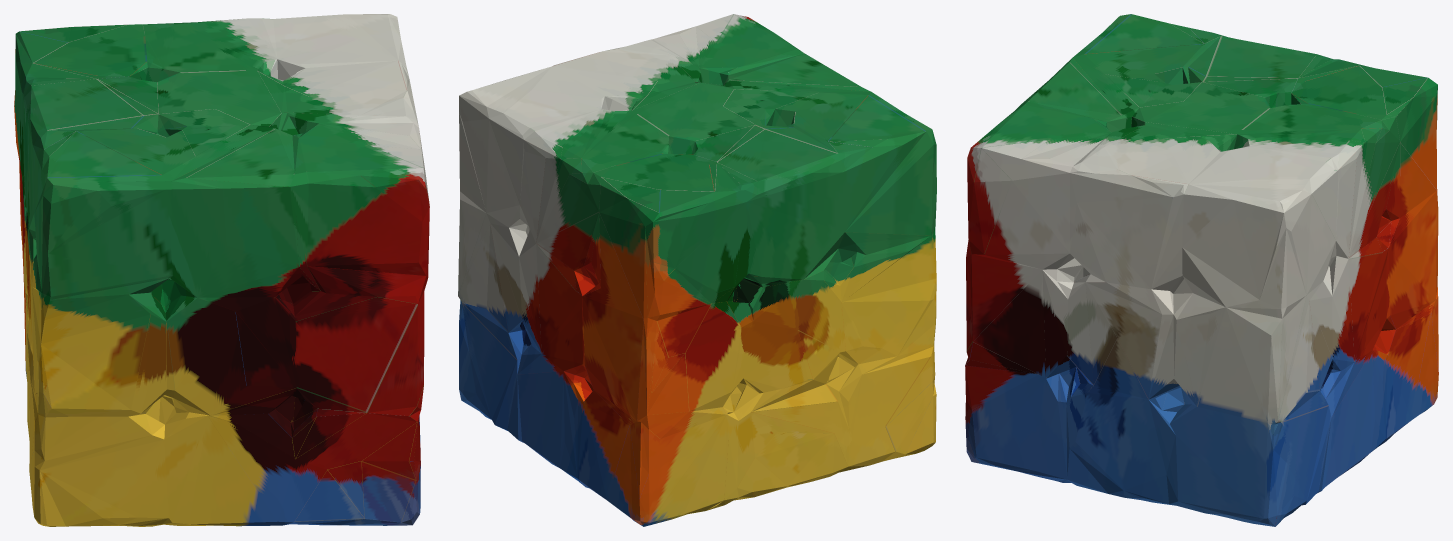
Rendered from ycb_rubiks_cube_metric_fp.obj.
The picture shows the model from 3 angles, left to right: view 1: azimuth 30°, elevation 25°; view 2: azimuth 150°, elevation 25°; view 3: azimuth 270°, elevation 25°; orthographic projection. The views are drawn at different scales.
Size of the model in its own units: 0.0764 by 0.0579 by 0.0758.
1 material, 1 textured.
